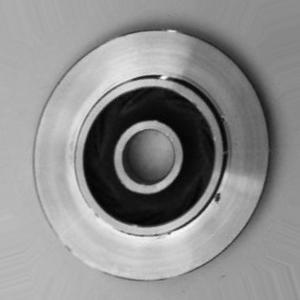defect: (206, 161, 231, 227)
